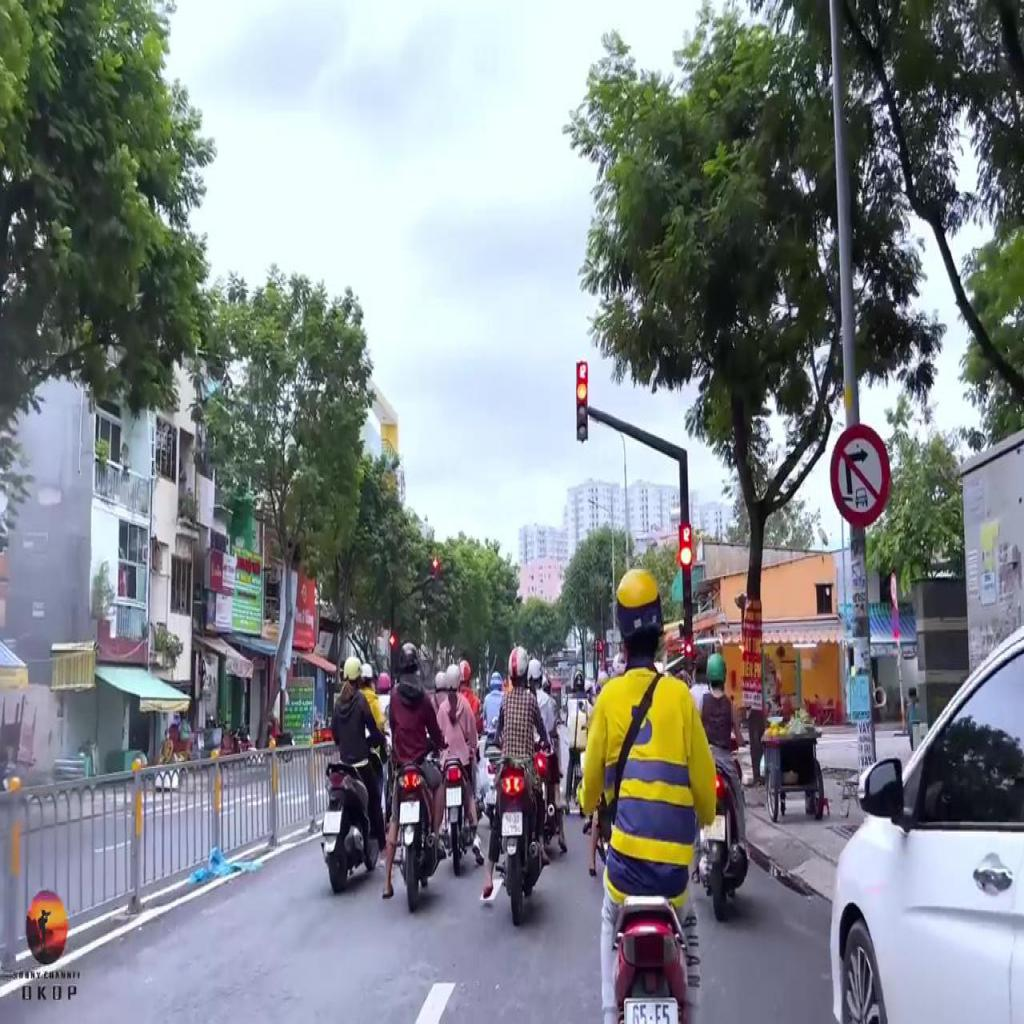cam_o_to_re_phai: (830, 422, 888, 528)
